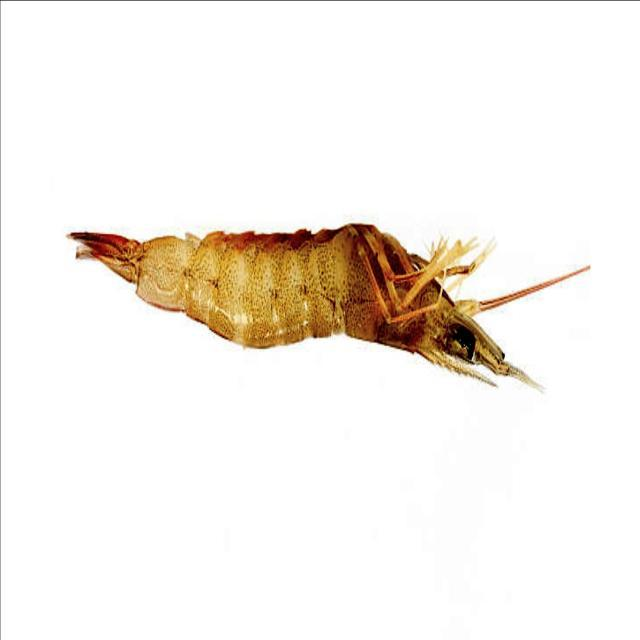shrimp: (72, 225, 540, 388)
